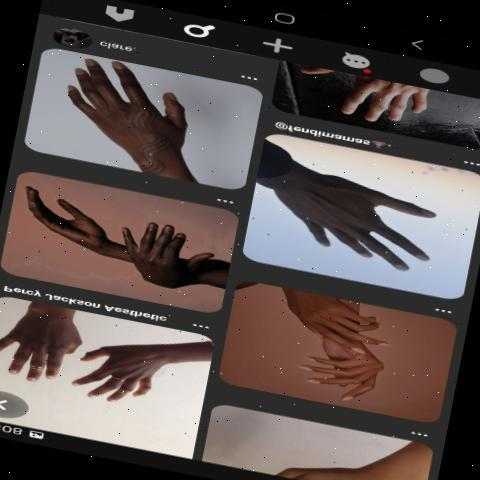Hands: (276, 156, 449, 278), (49, 57, 203, 171), (76, 336, 210, 424), (13, 182, 136, 258), (4, 304, 92, 399), (116, 215, 217, 292), (295, 343, 406, 408), (286, 299, 408, 353)
